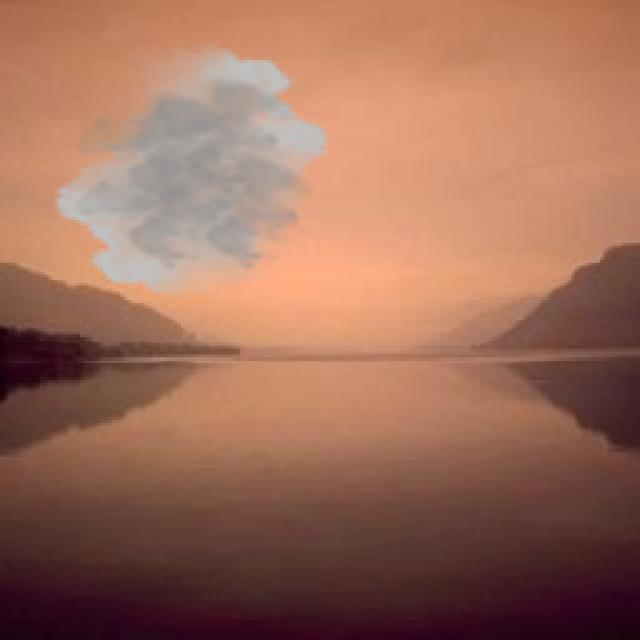smoke: (51, 43, 332, 300)
